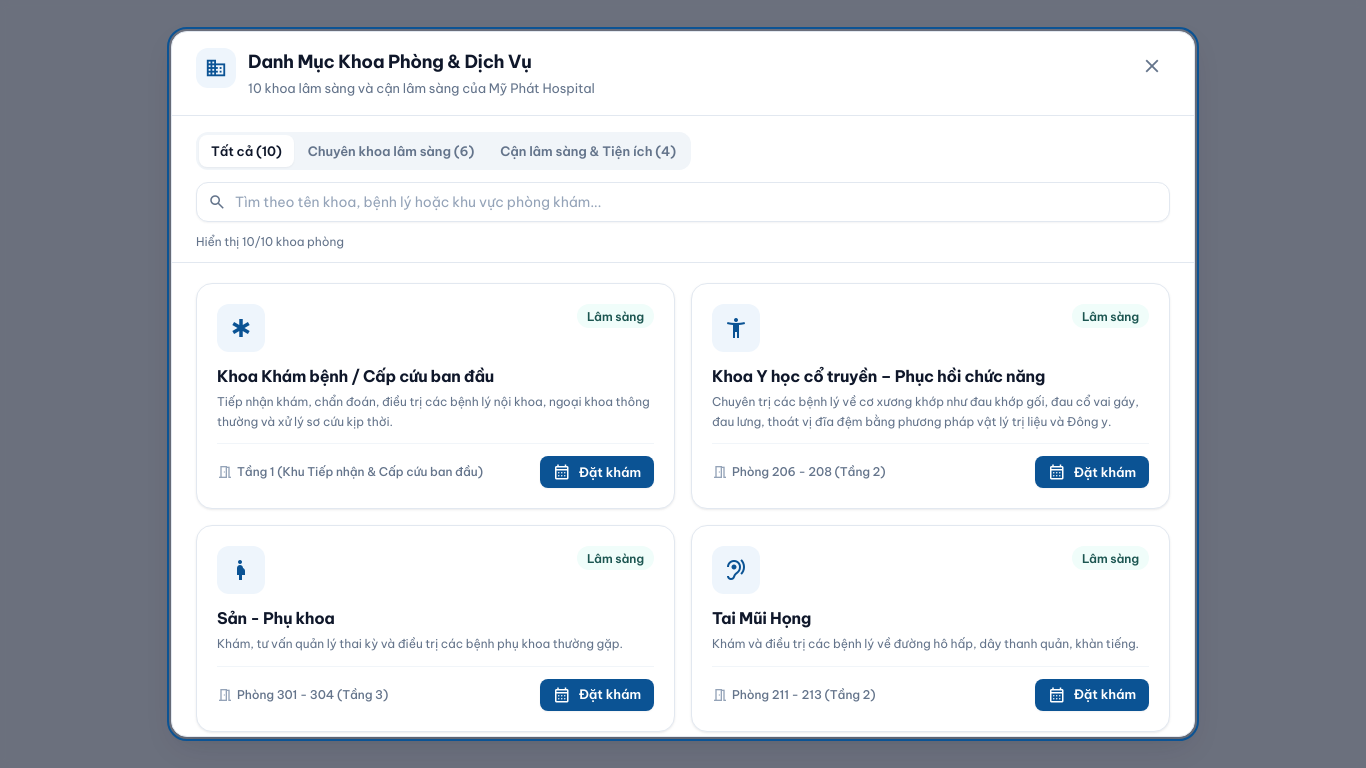
Test case: AllDepartmentsModal › shows an empty state when the search has no results
Type "zzz-khong-co" into the search field named "Tìm kiếm chuyên khoa" at [683, 202], box [196, 182, 1170, 222]
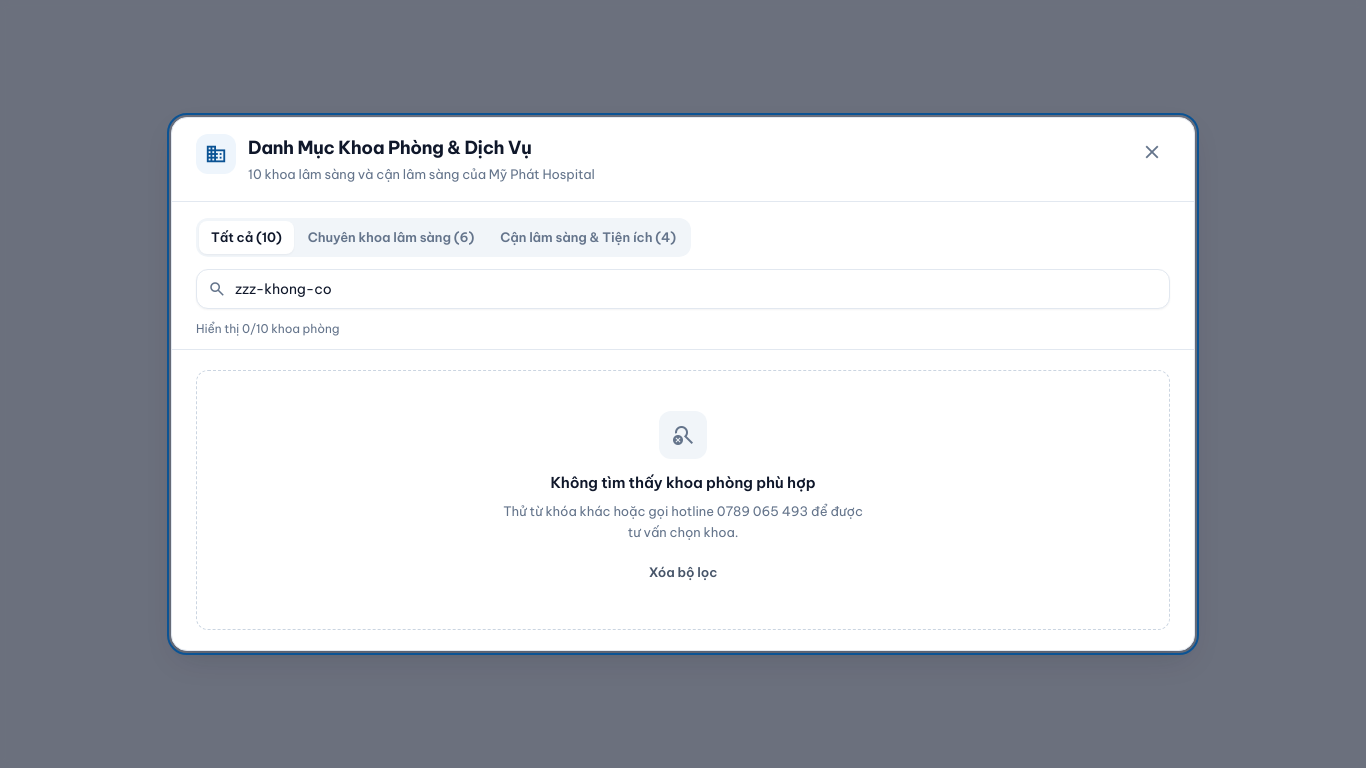
expect the text "Không tìm thấy khoa phòng phù hợp" is shown: met, box [550, 471, 816, 495]
Click the button "Xóa bộ lọc" at [683, 573], box [636, 557, 730, 589]
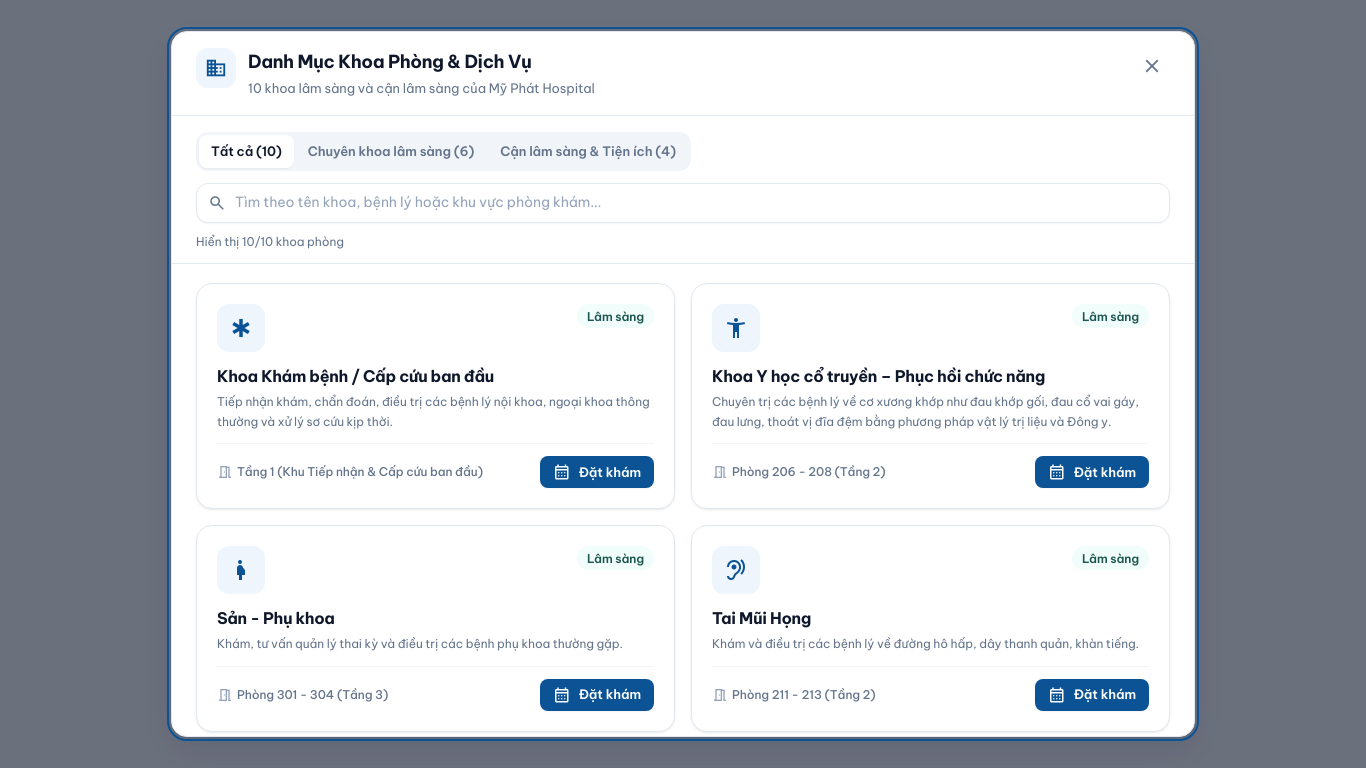
expect the text "Không tìm thấy khoa phòng phù hợp" is gone: met
